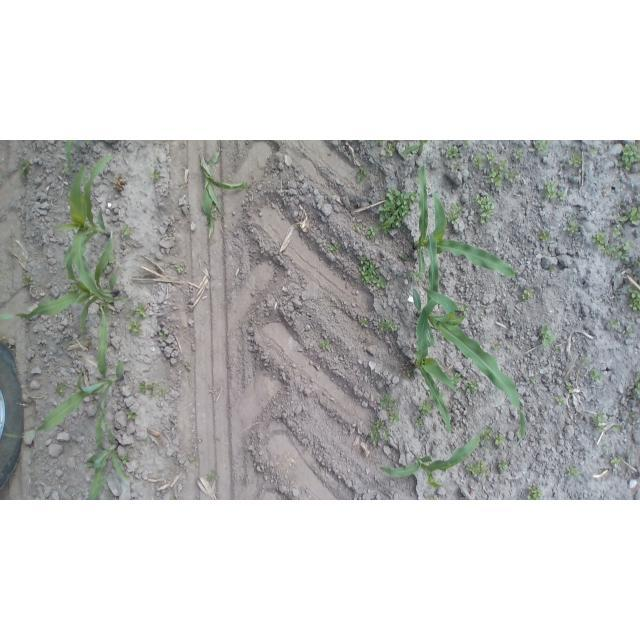Maize: (407, 232, 530, 445), (9, 304, 122, 456), (404, 164, 525, 301), (1, 229, 122, 342), (62, 150, 125, 309), (399, 288, 464, 439), (374, 431, 490, 496), (85, 408, 128, 501), (398, 140, 430, 162)
Weeds: (379, 187, 417, 238), (356, 255, 384, 289), (473, 190, 501, 224), (375, 394, 403, 427), (541, 179, 571, 203), (369, 419, 394, 445), (464, 459, 493, 480), (605, 243, 632, 262), (483, 169, 505, 192), (617, 145, 639, 168), (618, 203, 640, 226), (374, 316, 397, 335), (538, 325, 557, 347), (589, 412, 608, 433), (132, 302, 152, 319), (562, 218, 582, 235), (503, 167, 521, 185), (567, 151, 584, 170), (20, 157, 33, 181), (628, 286, 640, 312), (591, 232, 609, 249), (447, 204, 462, 224), (531, 141, 551, 156), (52, 380, 68, 398), (175, 260, 191, 278), (138, 379, 157, 394), (511, 147, 527, 164), (128, 321, 145, 336), (381, 144, 396, 161), (418, 398, 432, 416), (526, 488, 545, 501), (154, 329, 170, 344), (497, 459, 512, 475), (469, 155, 486, 169), (538, 230, 555, 244), (465, 380, 479, 397), (565, 380, 579, 397), (356, 166, 369, 184), (443, 147, 461, 160), (522, 286, 535, 304), (610, 224, 624, 240), (606, 456, 623, 469), (407, 270, 425, 282), (450, 159, 465, 173), (585, 366, 600, 380), (19, 272, 35, 285), (357, 315, 369, 332), (631, 377, 640, 399), (328, 241, 342, 255), (121, 224, 134, 239), (491, 340, 503, 356), (117, 455, 131, 468), (150, 170, 164, 183), (322, 337, 335, 351), (609, 317, 624, 329), (578, 355, 590, 370), (564, 466, 578, 478), (367, 226, 378, 241), (417, 414, 428, 429), (125, 410, 137, 423), (187, 450, 200, 462), (486, 154, 498, 167), (496, 160, 508, 173), (495, 436, 507, 449), (205, 471, 219, 482), (484, 427, 495, 441), (456, 303, 470, 314), (612, 424, 623, 437), (600, 443, 613, 454), (453, 372, 464, 385), (476, 439, 490, 449), (405, 368, 415, 381), (462, 140, 474, 150), (156, 389, 169, 398), (105, 257, 115, 268), (351, 221, 361, 232), (555, 396, 566, 406), (479, 310, 488, 322), (530, 375, 536, 383)
